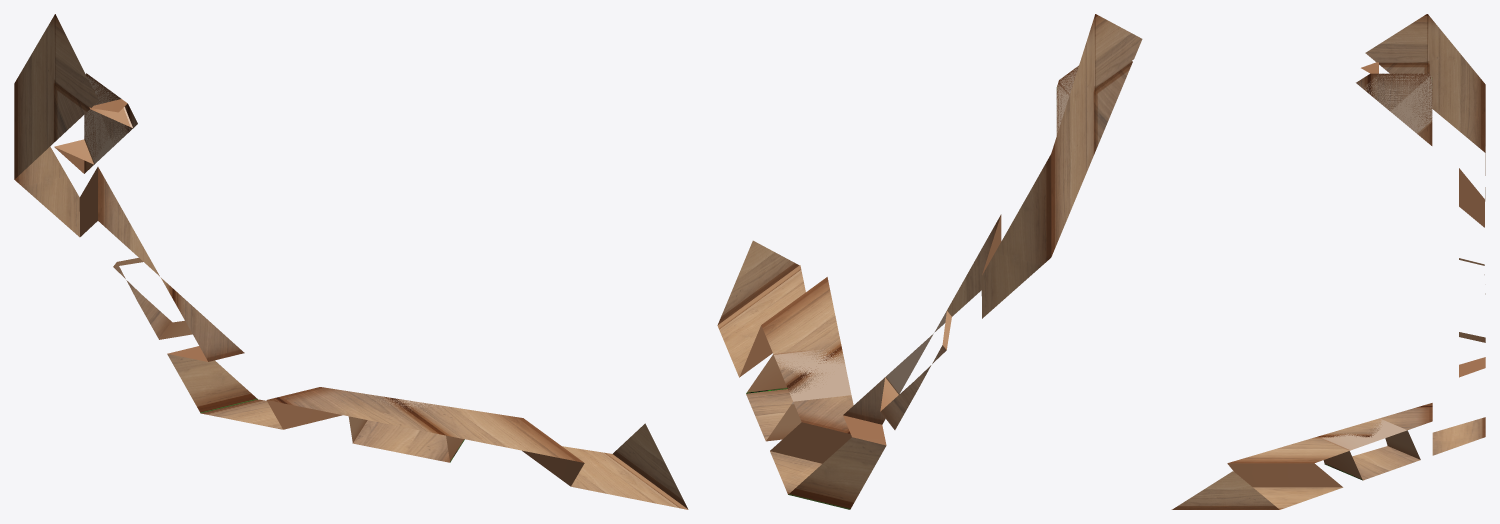
Rendered from brokenbox3.FBX.
The picture shows the model from 3 angles, left to right: view 1: azimuth 30°, elevation 25°; view 2: azimuth 150°, elevation 25°; view 3: azimuth 270°, elevation 25°; orthographic projection. The views are drawn at different scales.
Visible parts, largest first — view 1: Object001; view 2: Object001; view 3: Object001.
Boxes of the visible parts, bbox=[...] form: Object001: bbox=[14, 14, 688, 509]; Object001: bbox=[717, 14, 1142, 509]; Object001: bbox=[1171, 14, 1485, 509].
Size of the model in its own units: 1.4 by 1.4 by 1.18.
